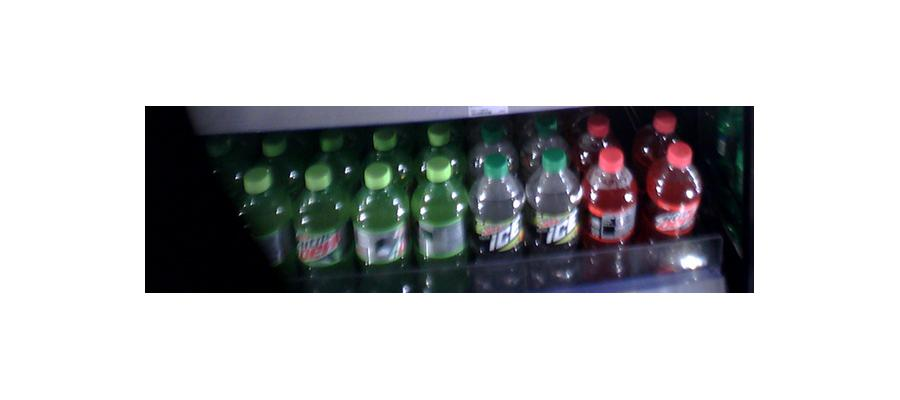bottle: (645, 131, 703, 271), (412, 154, 468, 293), (352, 158, 408, 295), (472, 148, 525, 288), (584, 142, 638, 277), (296, 157, 351, 289), (529, 142, 580, 284), (234, 160, 292, 275)
